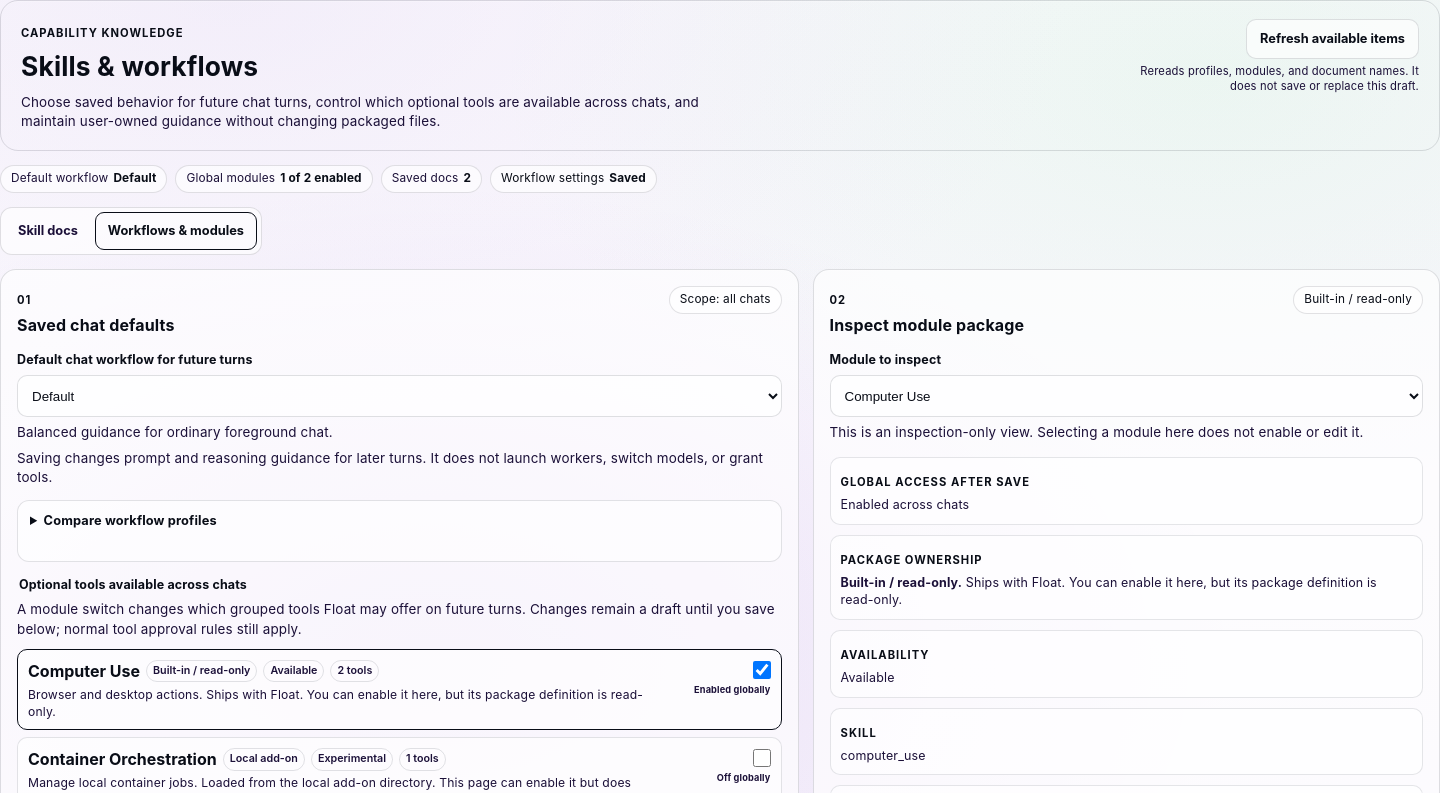
Scenario: KnowledgeSkillsTab › keeps system workflows visible for comparison but out of default selection
Expected: the option "Background Reflection" is not shown
Expected: the text "does not launch workers, switch models, or grant tools" is shown, [17, 450, 763, 485]
Click the heading "Compare workflow profiles": (130, 520) [44, 513, 217, 528]
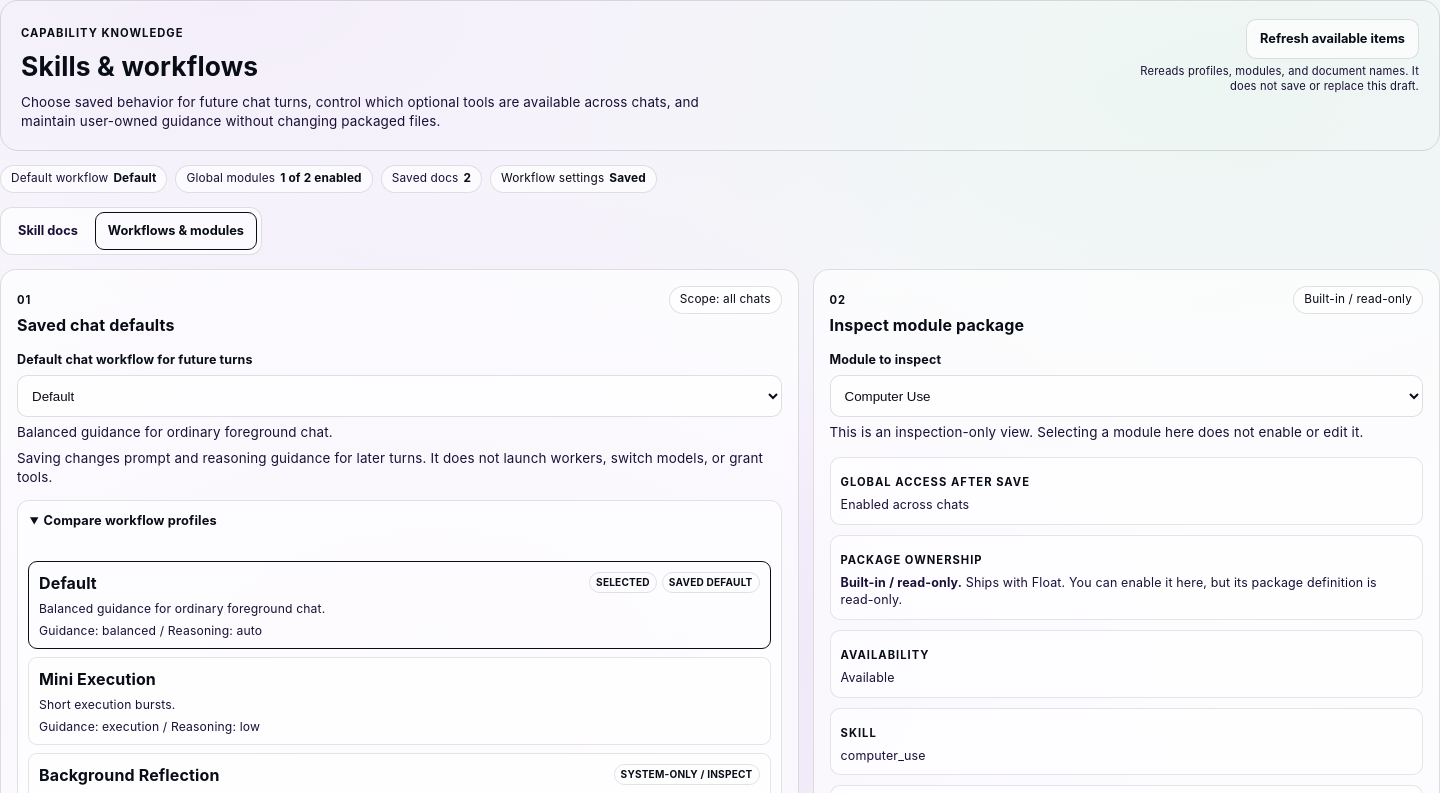
Now the text "Background Reflection" is shown, box [39, 763, 220, 787]
Now the text "system-only / inspect" is shown, box [614, 764, 760, 785]
